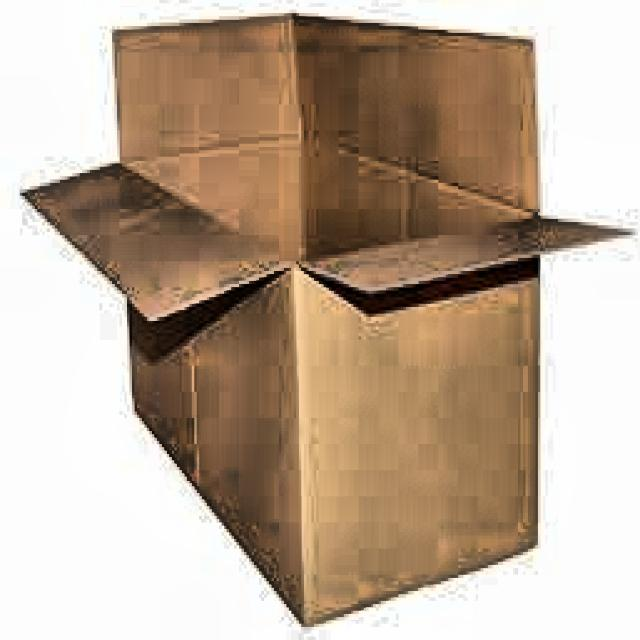Cardbox: (15, 4, 640, 634)
